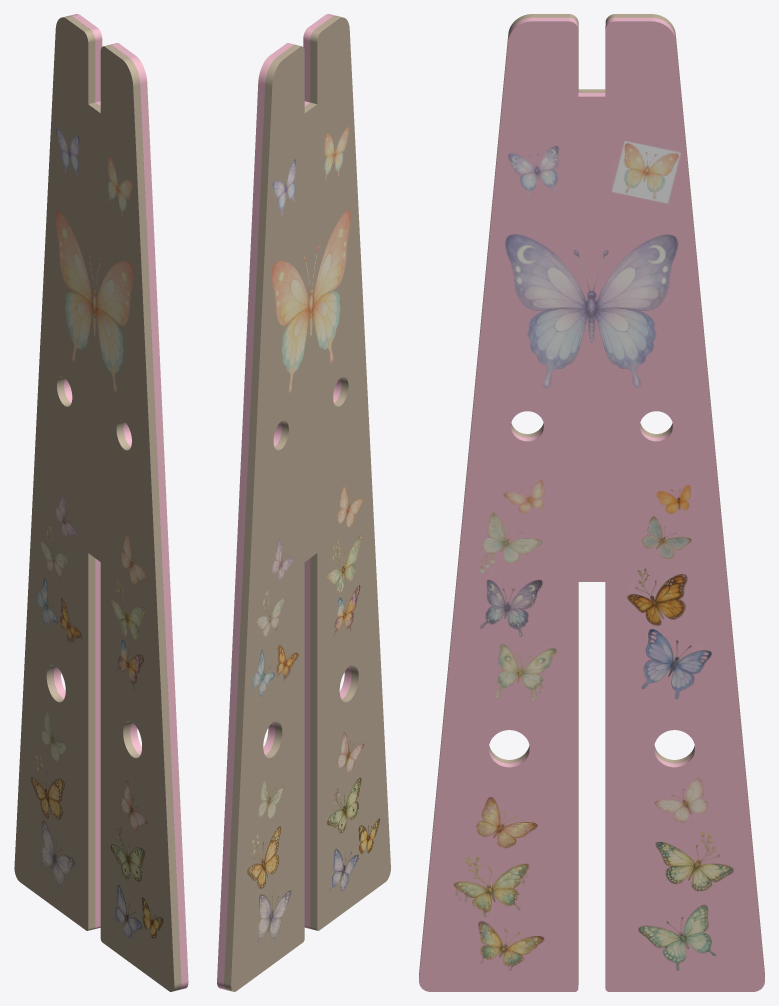
3 views of the same model, side by side, from view 1: azimuth 30°, elevation 25°; view 2: azimuth 150°, elevation 25°; view 3: azimuth 270°, elevation 25° (orthographic). The views are drawn at different scales.
Visible parts, largest first — view 1: p007; view 2: p007; view 3: p007.
Boxes of the visible parts, box(x1,y1,x2,y2) form: p007: box(14, 14, 188, 991); p007: box(217, 14, 390, 991); p007: box(419, 14, 764, 991).
Bounding box in the file's own units: 18 × 1095 × 354.
4 materials, 2 textured.
